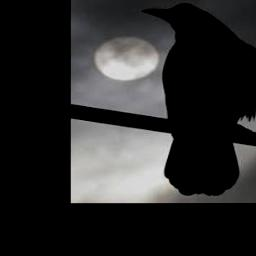Crow: (140, 2, 256, 197)
